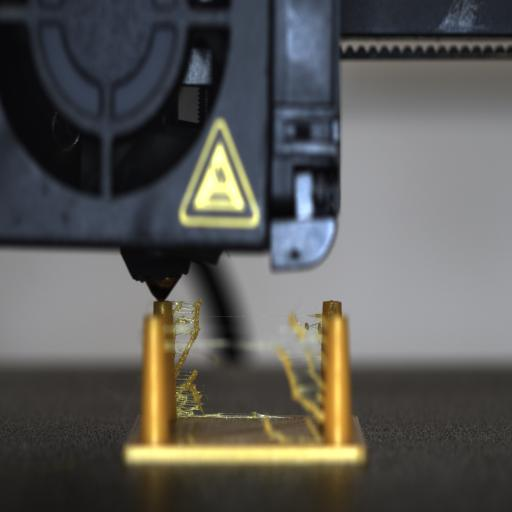stringing: (156, 295, 332, 436), (172, 298, 201, 376)
